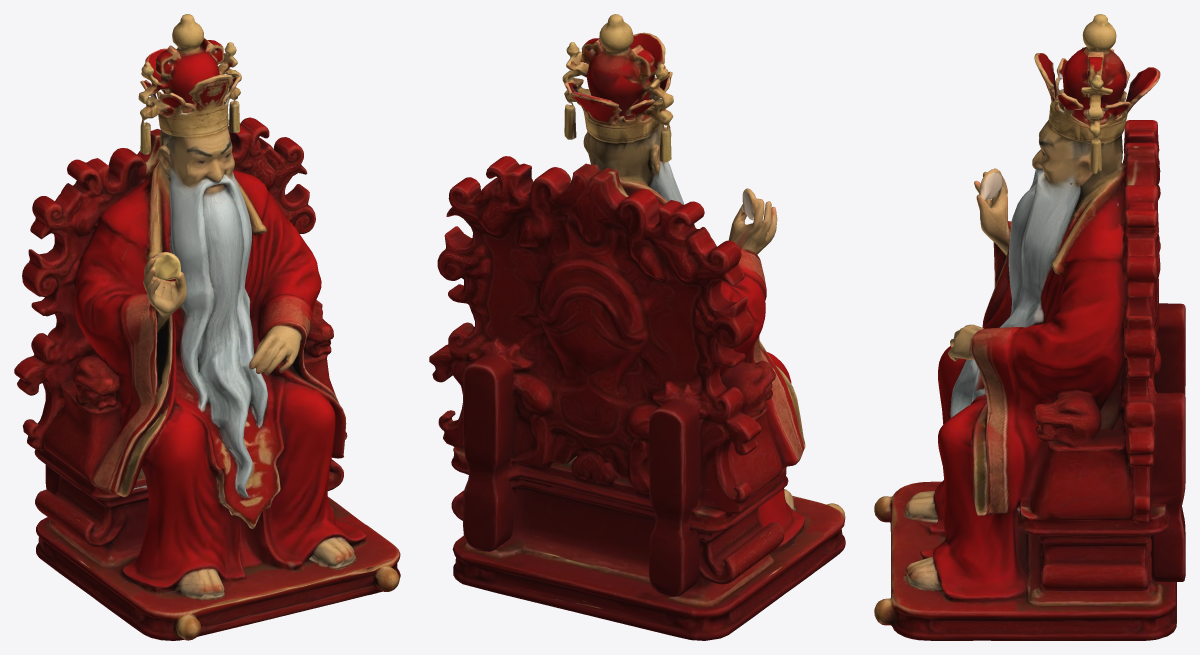
The model's file is deity_yuanshi.glb.
3 renders of one model, left to right at view 1: azimuth 30°, elevation 25°; view 2: azimuth 150°, elevation 25°; view 3: azimuth 270°, elevation 25°, orthographic. The views are drawn at different scales.
Bounding box in the file's own units: 1.12 × 1.9 × 0.9548.
Materials: 1 (1 with a texture image).
